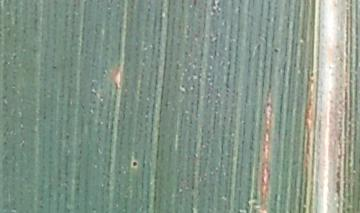tarspot: (129, 159, 141, 169), (271, 45, 282, 55)
